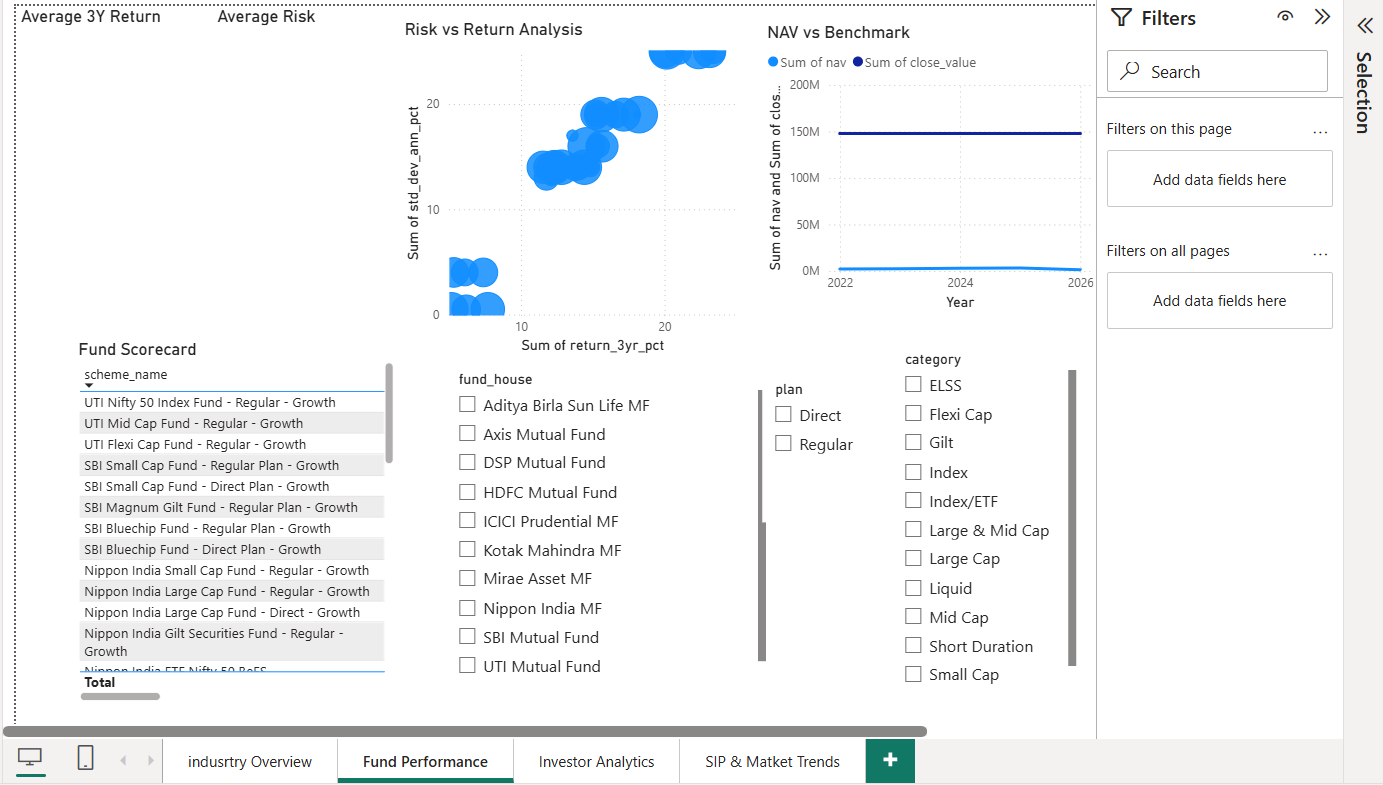

What the dashboard file says about the page in this screenshot:
{"tool":"powerbi","page":{"name":"Fund Performance","canvas":[1280,720],"ordinal":1},"visuals":[{"type":"scatterChart","title":"Risk vs Return Analysis","fields":{"X":["Sum(07_scheme_performance_clean.return_3yr_pct)"],"Y":["Sum(07_scheme_performance_clean.std_dev_ann_pct)"],"Size":["Sum(07_scheme_performance_clean.aum_crore)"],"Category":["07_scheme_performance_clean.scheme_name"]},"box":[383.8,12.5,348.8,340],"z":0},{"type":"tableEx","title":"Fund Scorecard","fields":{"Values":["07_scheme_performance_clean.scheme_name","07_scheme_performance_clean.fund_house","07_scheme_performance_clean.category","Sum(07_scheme_performance_clean.return_3yr_pct)","Sum(07_scheme_performance_clean.std_dev_ann_pct)","Sum(07_scheme_performance_clean.aum_crore)","Sum(07_scheme_performance_clean.morningstar_rating)"]},"box":[57.5,332.5,325,367.5],"z":1},{"type":"slicer","fields":{"Values":["07_scheme_performance_clean.fund_house"]},"box":[430,360,325,312.5],"z":2},{"type":"slicer","fields":{"Values":["07_scheme_performance_clean.category"]},"box":[876.2,340,188.8,350],"z":3},{"type":"slicer","fields":{"Values":["07_scheme_performance_clean.plan"]},"box":[746.2,370,126.2,146.2],"z":4},{"type":"kpi","title":"Average Risk","fields":{"TrendLine":["07_scheme_performance_clean.std_dev_ann_pct"]},"box":[196.2,0,173.8,51.2],"z":6},{"type":"kpi","title":"Average 3Y Return ","fields":{"Indicator":["Sum(07_scheme_performance_clean.return_3yr_pct)"]},"box":[0,0,172.5,51.2],"z":7},{"type":"lineChart","box":[1065,13,183,150],"z":8},{"type":"lineChart","title":"NAV vs Benchmark","fields":{"Category":["02_nav_history_clean.date.Variation.Date Hierarchy.Year","02_nav_history_clean.date.Variation.Date Hierarchy.Quarter","02_nav_history_clean.date.Variation.Date Hierarchy.Month","02_nav_history_clean.date.Variation.Date Hierarchy.Day"],"Y":["Sum(02_nav_history_clean.nav)","Sum(10_benching_indices_clean.close_value)"]},"box":[746.2,16.2,336.2,292.5],"z":9}]}

Visuals, with their boxes on the page's 1280x720 design canvas (x1, y1, x2, y2). These are canvas units, not pixel positions in the 1383x785 screenshot, which may show the page scaled, cropped or inside an application window:
"Risk vs Return Analysis" scatterChart: <region>384, 12, 733, 352</region>
"Fund Scorecard" tableEx: <region>58, 332, 382, 700</region>
slicer - 07_scheme_performance_clean.fund_house: <region>430, 360, 755, 672</region>
slicer - 07_scheme_performance_clean.category: <region>876, 340, 1065, 690</region>
slicer - 07_scheme_performance_clean.plan: <region>746, 370, 872, 516</region>
"Average Risk" kpi: <region>196, 0, 370, 51</region>
"Average 3Y Return " kpi: <region>0, 0, 172, 51</region>
lineChart: <region>1065, 13, 1248, 163</region>
"NAV vs Benchmark" lineChart: <region>746, 16, 1082, 309</region>
